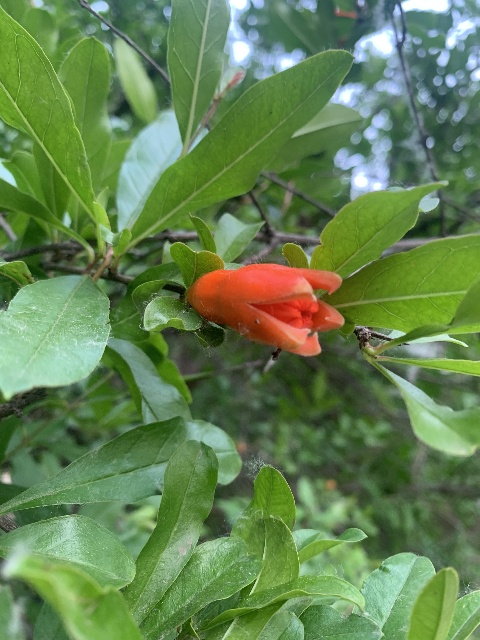flower: (187, 261, 345, 355)
